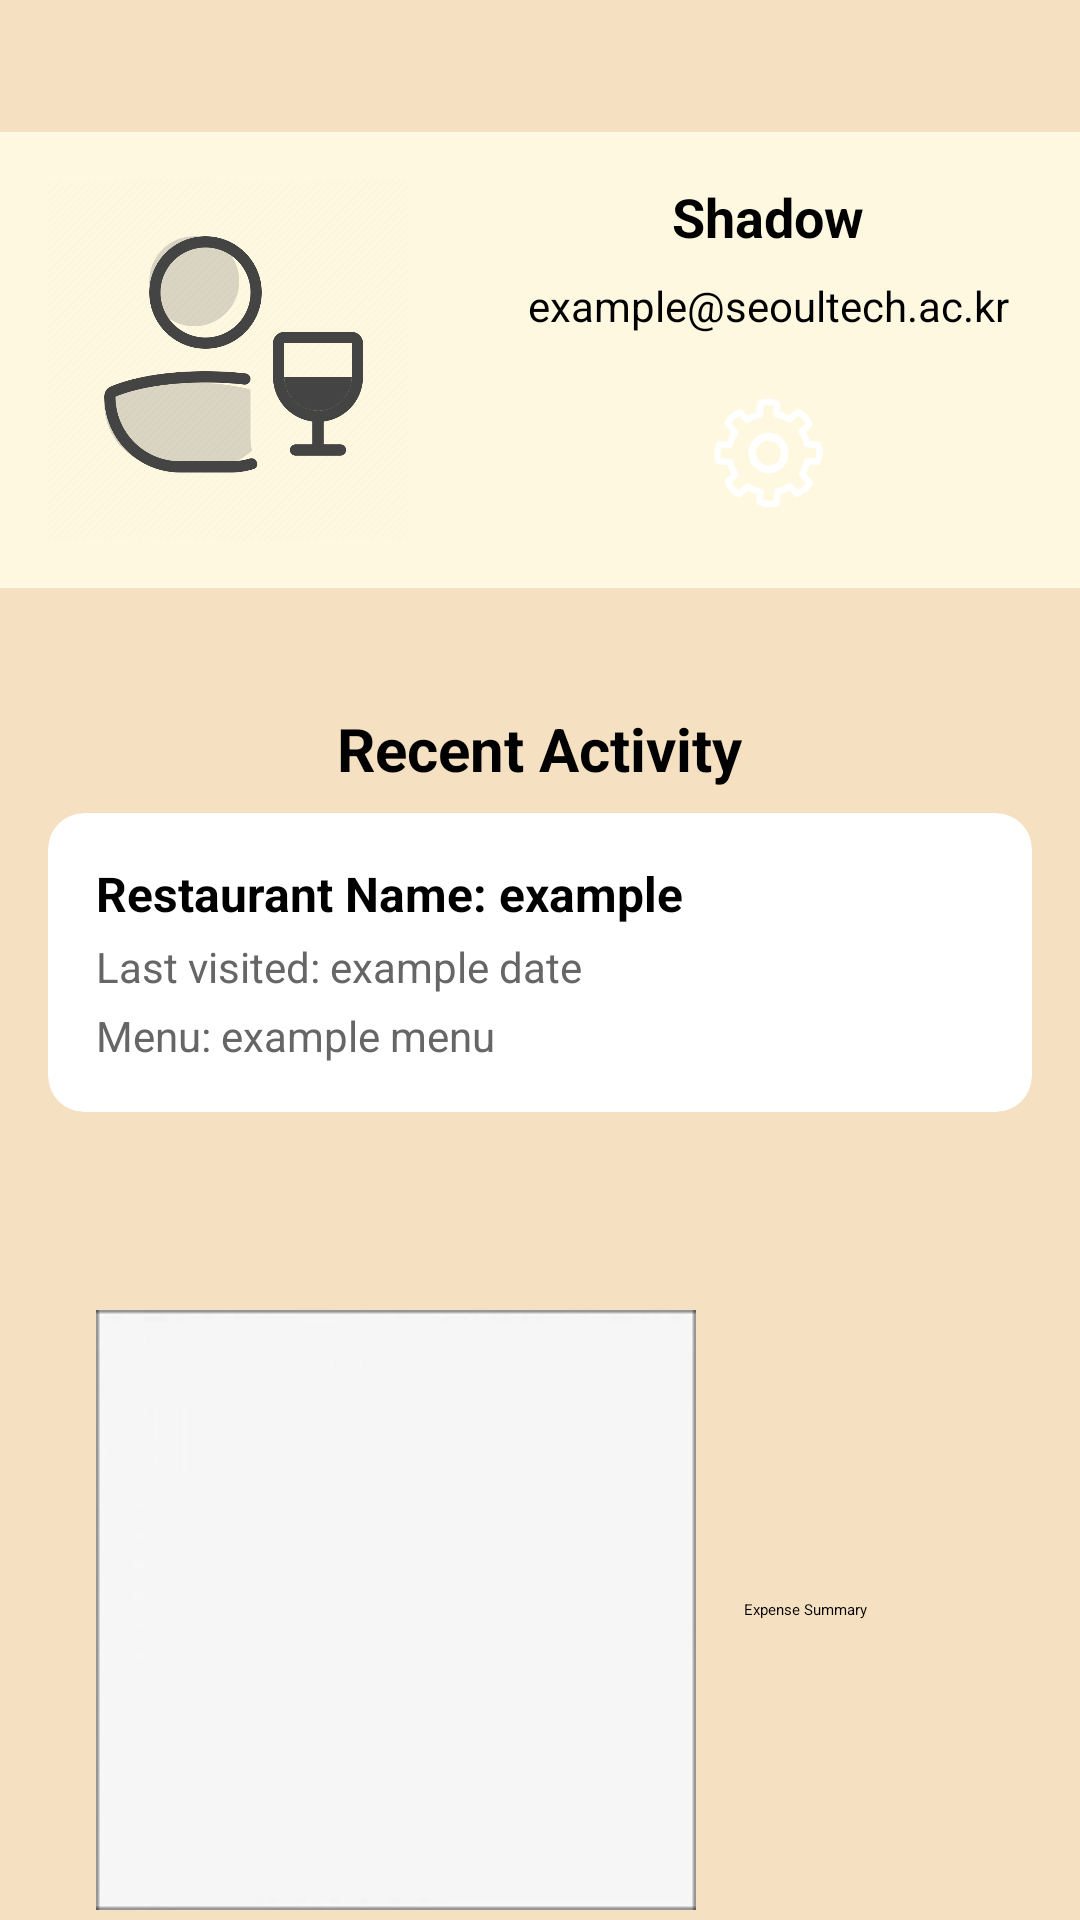

Screen size 1080 x 1920. Icon name, then its box in pixels as (x1, y1, x2, y2):
profile: (104, 236, 363, 473)
Settings: (715, 399, 822, 507)
